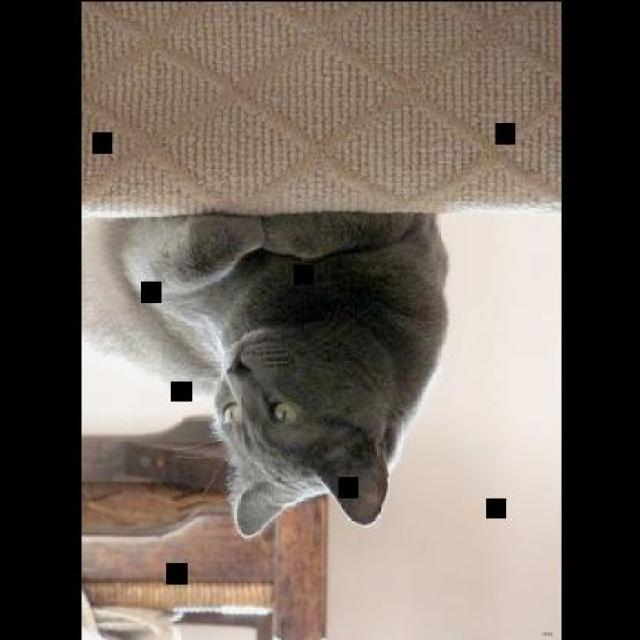unauthorized: (82, 207, 449, 538)
